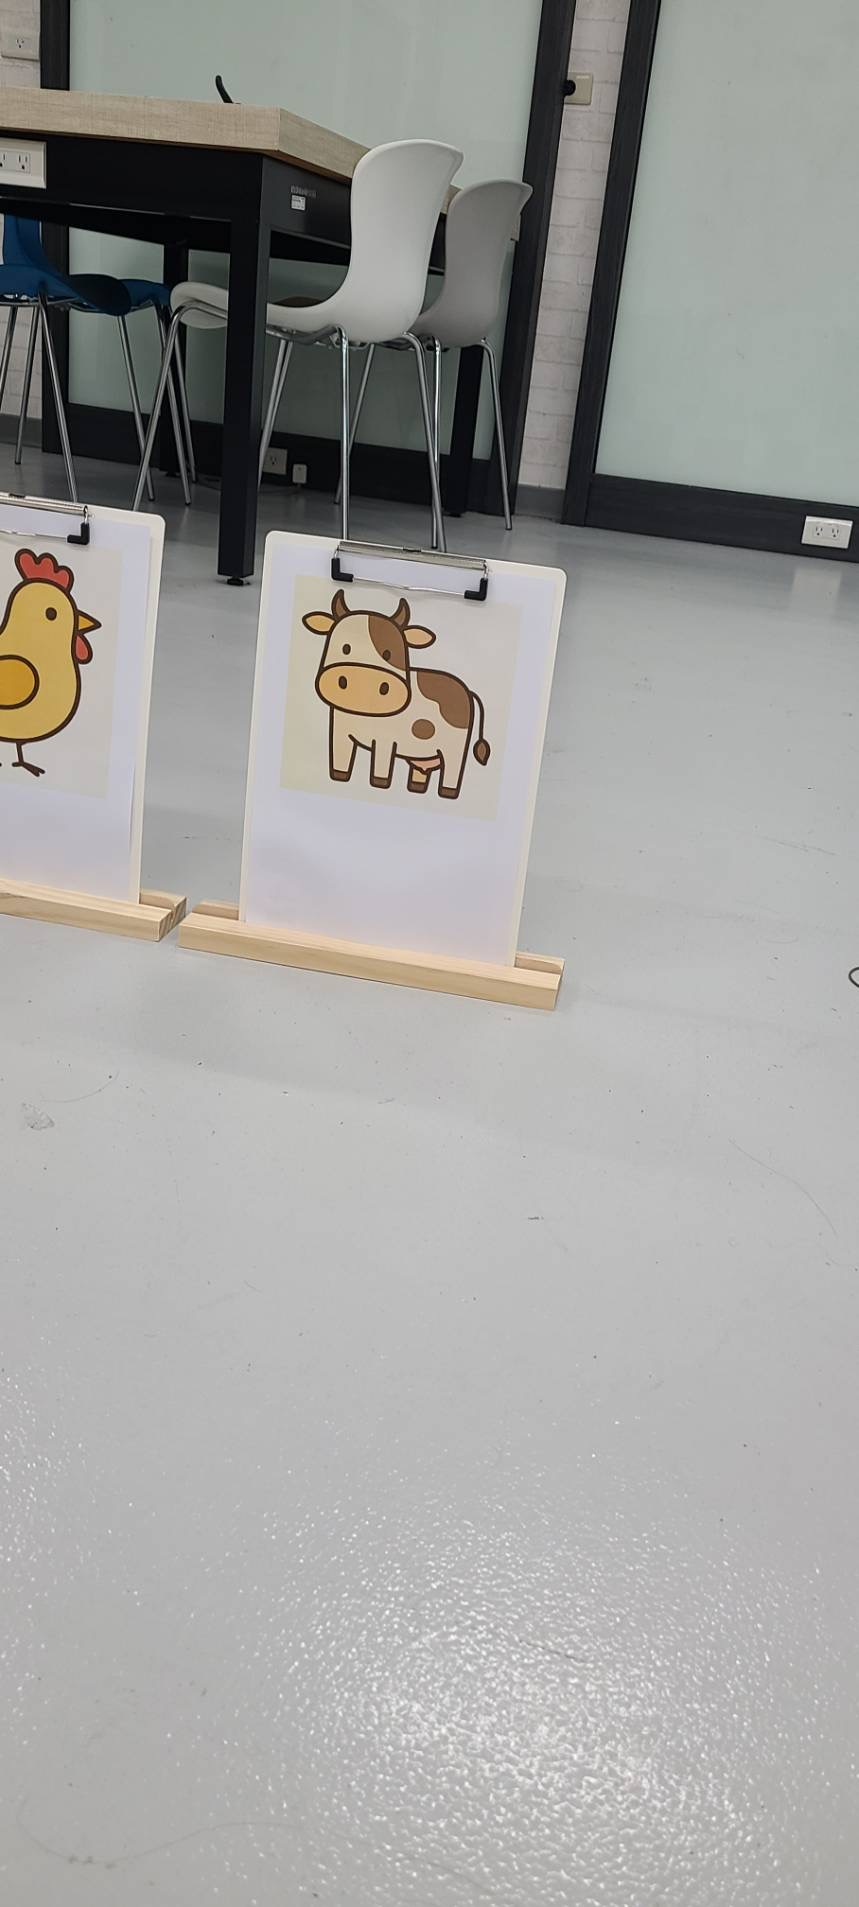cow: (296, 592, 492, 803)
